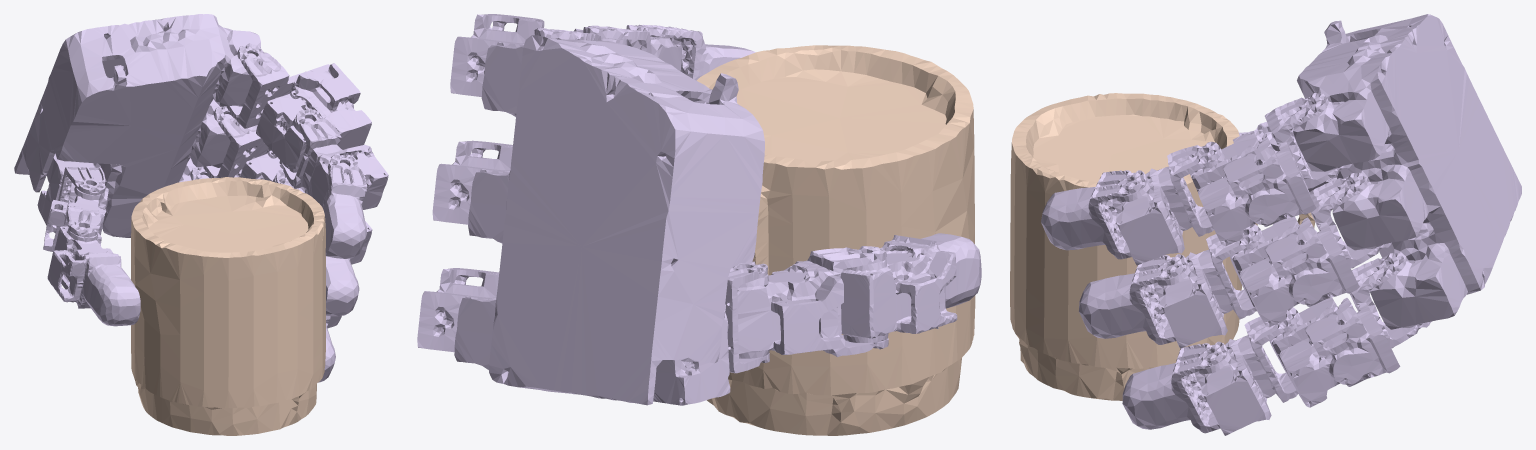
The model's file is 10473bba120537-closed.glb.
3 renders of one model, left to right at view 1: azimuth 30°, elevation 25°; view 2: azimuth 150°, elevation 25°; view 3: azimuth 270°, elevation 25°, orthographic. The views are drawn at different scales.
Parts seen in each view (by area): view 1: LEAP_hand, world; view 2: LEAP_hand, world; view 3: LEAP_hand, world.
Boxes of the visible parts, x1,y1,x2,y2 form: LEAP_hand: (14, 14, 388, 382); world: (131, 177, 325, 435); LEAP_hand: (417, 14, 981, 405); world: (696, 45, 975, 435); LEAP_hand: (1041, 14, 1521, 435); world: (1010, 93, 1314, 400).
Size of the model in its own units: 0.1862 by 0.176 by 0.23.
